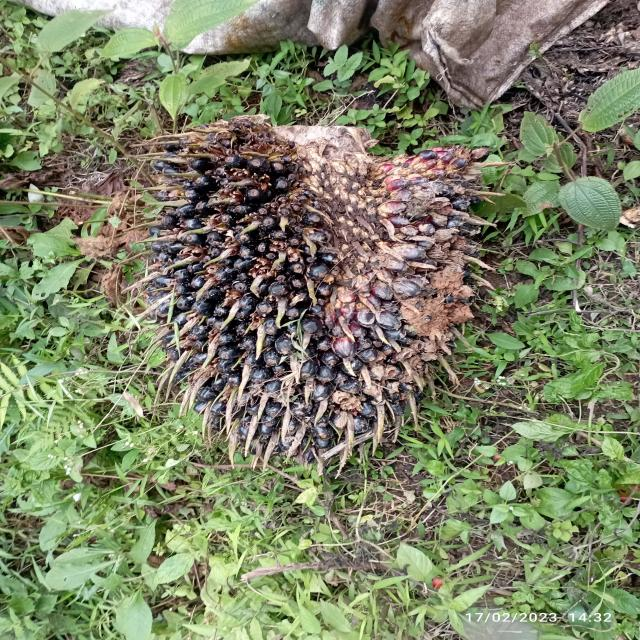fraksi 00: (33, 81, 561, 512)
